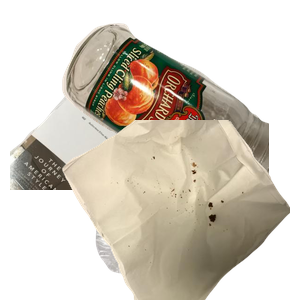glass: (60, 21, 300, 201)
paper: (10, 46, 250, 226)
plastic: (88, 158, 229, 300)
trash: (60, 120, 300, 300)
